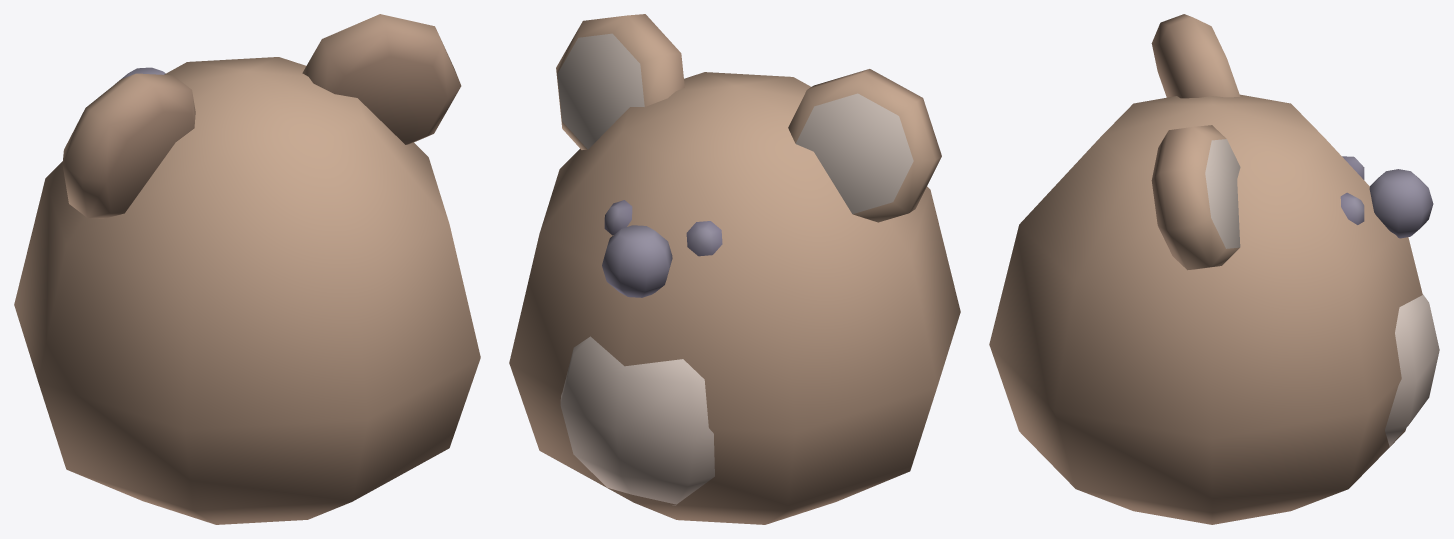
File: plush-bear.glb
3 renders of one model, left to right at view 1: azimuth 30°, elevation 25°; view 2: azimuth 150°, elevation 25°; view 3: azimuth 270°, elevation 25°, orthographic. The views are drawn at different scales.
Parts seen in each view (by area): view 1: plush-bear; view 2: plush-bear; view 3: plush-bear.
Part boxes in pixels (left/top/right/bottom): plush-bear: left=14, top=14, right=480, bottom=524; plush-bear: left=509, top=14, right=960, bottom=524; plush-bear: left=989, top=14, right=1439, bottom=524.
Size of the model in its own units: 0.7 by 0.7029 by 0.7071.
